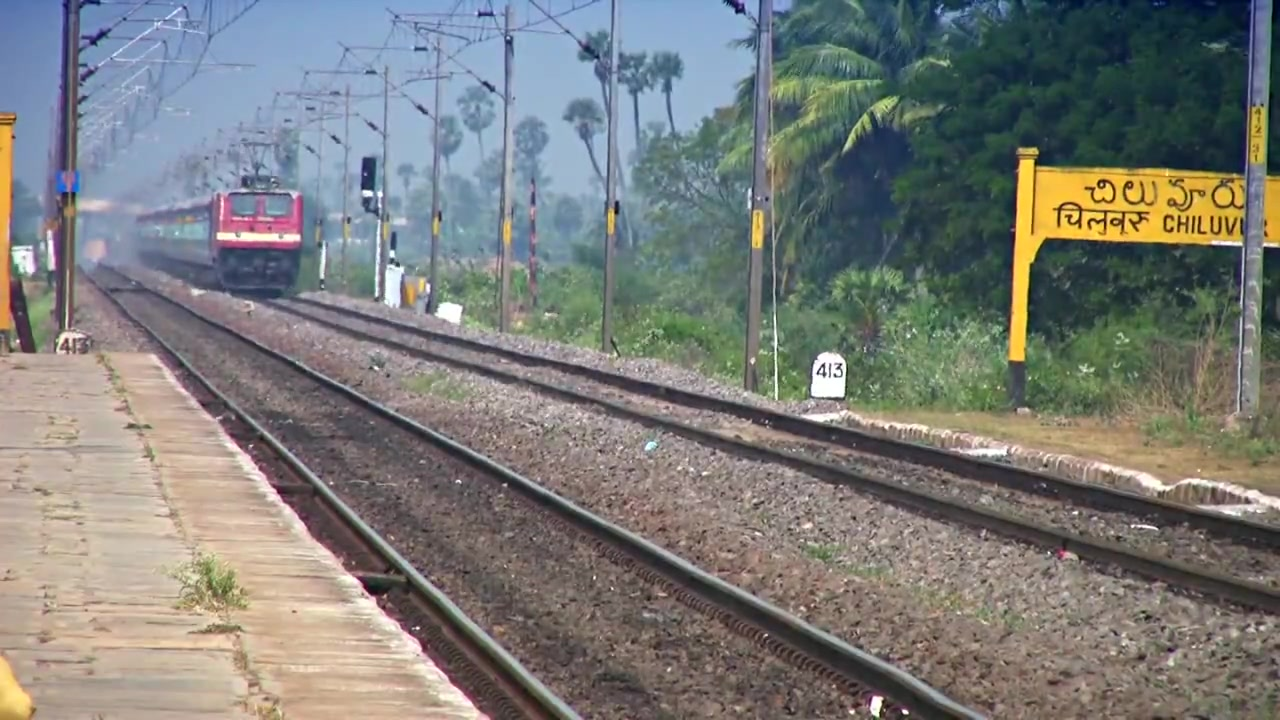train: (106, 175, 310, 295)
